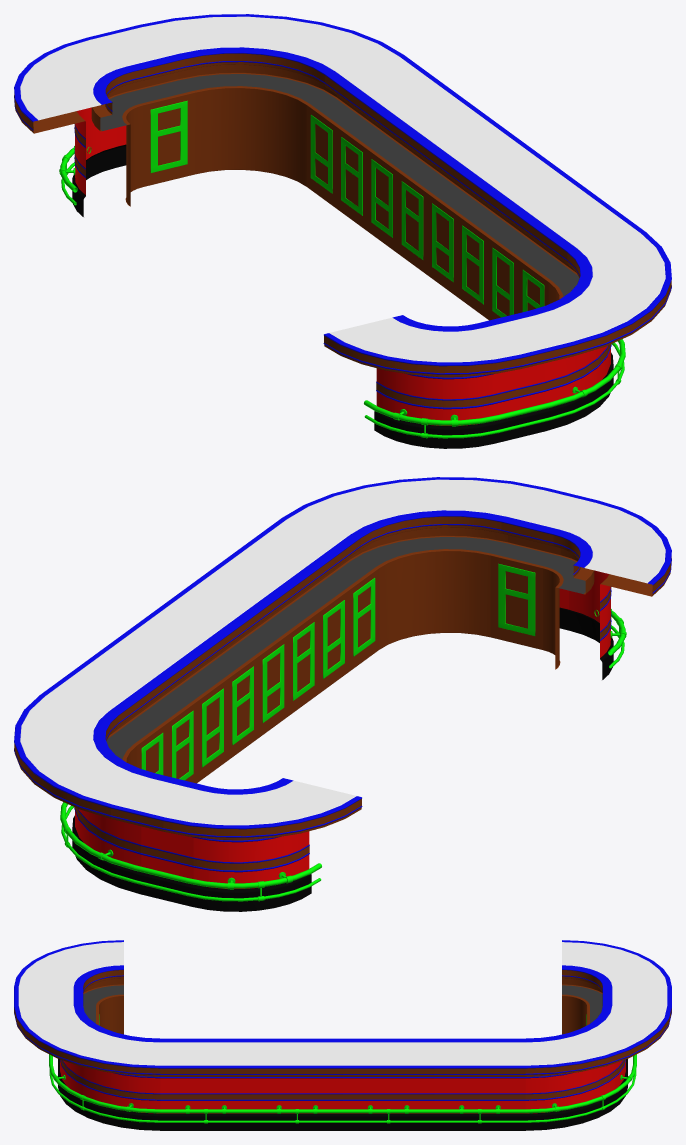
3 views of the same model, one above another, from view 1: azimuth 30°, elevation 25°; view 2: azimuth 150°, elevation 25°; view 3: azimuth 270°, elevation 25° (orthographic). The views are drawn at different scales.
Parts seen in each view (by area): view 1: curvebar (×4), curvetightbar1 (×5), curvebar1 (×5), straightbar7 (×5), straightbar6 (×5), straightbar (×5), curvetightbar (×6), straightbar1 (×5), smallbar1 (×5), smallbar (×5), tightfootrest2, curvefootrest55; view 2: curvebar1 (×4), curvetightbar (×5), curvebar (×5), straightbar1 (×5), straightbar (×5), straightbar6 (×5), curvetightbar1 (×6), straightbar7 (×5), smallbar (×5), smallbar1 (×5), tightfootrest3, curvefootrest; view 3: curvebar1 (×5), curvebar (×5), straightbar1 (×5), straightbar7 (×5), straightbar (×5), straightbar6 (×5), curvetightbar (×4), curvetightbar1 (×4), smallbar (×2), smallbar1 (×2), curvefootrest, curvefootrest55 (+4 smaller).
Boxes of the visible parts, x1=… form: curvebar (×4): x1=140, y1=14, x2=403, y2=186; curvetightbar1 (×5): x1=323, y1=315, x2=522, y2=448; curvebar1 (×5): x1=530, y1=232, x2=671, y2=430; straightbar7 (×5): x1=306, y1=55, x2=463, y2=230; straightbar6 (×5): x1=367, y1=99, x2=524, y2=275; straightbar (×5): x1=427, y1=143, x2=585, y2=319; curvetightbar (×6): x1=14, y1=37, x2=142, y2=216; straightbar1 (×5): x1=488, y1=188, x2=645, y2=320; smallbar1 (×5): x1=87, y1=25, x2=195, y2=186; smallbar (×5): x1=477, y1=310, x2=575, y2=443; tightfootrest2: x1=364, y1=400, x2=499, y2=438; curvefootrest55: x1=550, y1=339, x2=625, y2=419; curvebar1 (×4): x1=282, y1=477, x2=545, y2=649; curvetightbar (×5): x1=163, y1=778, x2=362, y2=911; curvebar (×5): x1=14, y1=695, x2=155, y2=893; straightbar1 (×5): x1=222, y1=518, x2=379, y2=693; straightbar (×5): x1=161, y1=562, x2=318, y2=738; straightbar6 (×5): x1=100, y1=606, x2=258, y2=782; curvetightbar1 (×6): x1=543, y1=500, x2=671, y2=679; straightbar7 (×5): x1=40, y1=651, x2=197, y2=783; smallbar (×5): x1=490, y1=488, x2=598, y2=649; smallbar1 (×5): x1=110, y1=773, x2=208, y2=906; tightfootrest3: x1=186, y1=863, x2=321, y2=901; curvefootrest: x1=60, y1=802, x2=135, y2=882; curvebar1 (×5): x1=14, y1=1005, x2=160, y2=1130; curvebar (×5): x1=525, y1=1005, x2=671, y2=1130; straightbar1 (×5): x1=160, y1=1038, x2=251, y2=1130; straightbar7 (×5): x1=434, y1=1038, x2=525, y2=1130; straightbar (×5): x1=251, y1=1038, x2=342, y2=1130; straightbar6 (×5): x1=343, y1=1038, x2=434, y2=1130; curvetightbar (×4): x1=562, y1=940, x2=671, y2=1034; curvetightbar1 (×4): x1=14, y1=940, x2=123, y2=1034; smallbar (×2): x1=14, y1=986, x2=83, y2=1011; smallbar1 (×2): x1=602, y1=986, x2=671, y2=1011; curvefootrest: x1=525, y1=1063, x2=636, y2=1122; curvefootrest55: x1=49, y1=1063, x2=160, y2=1122.
Size of the model in its own units: 0.9181 by 0.275 by 2.
